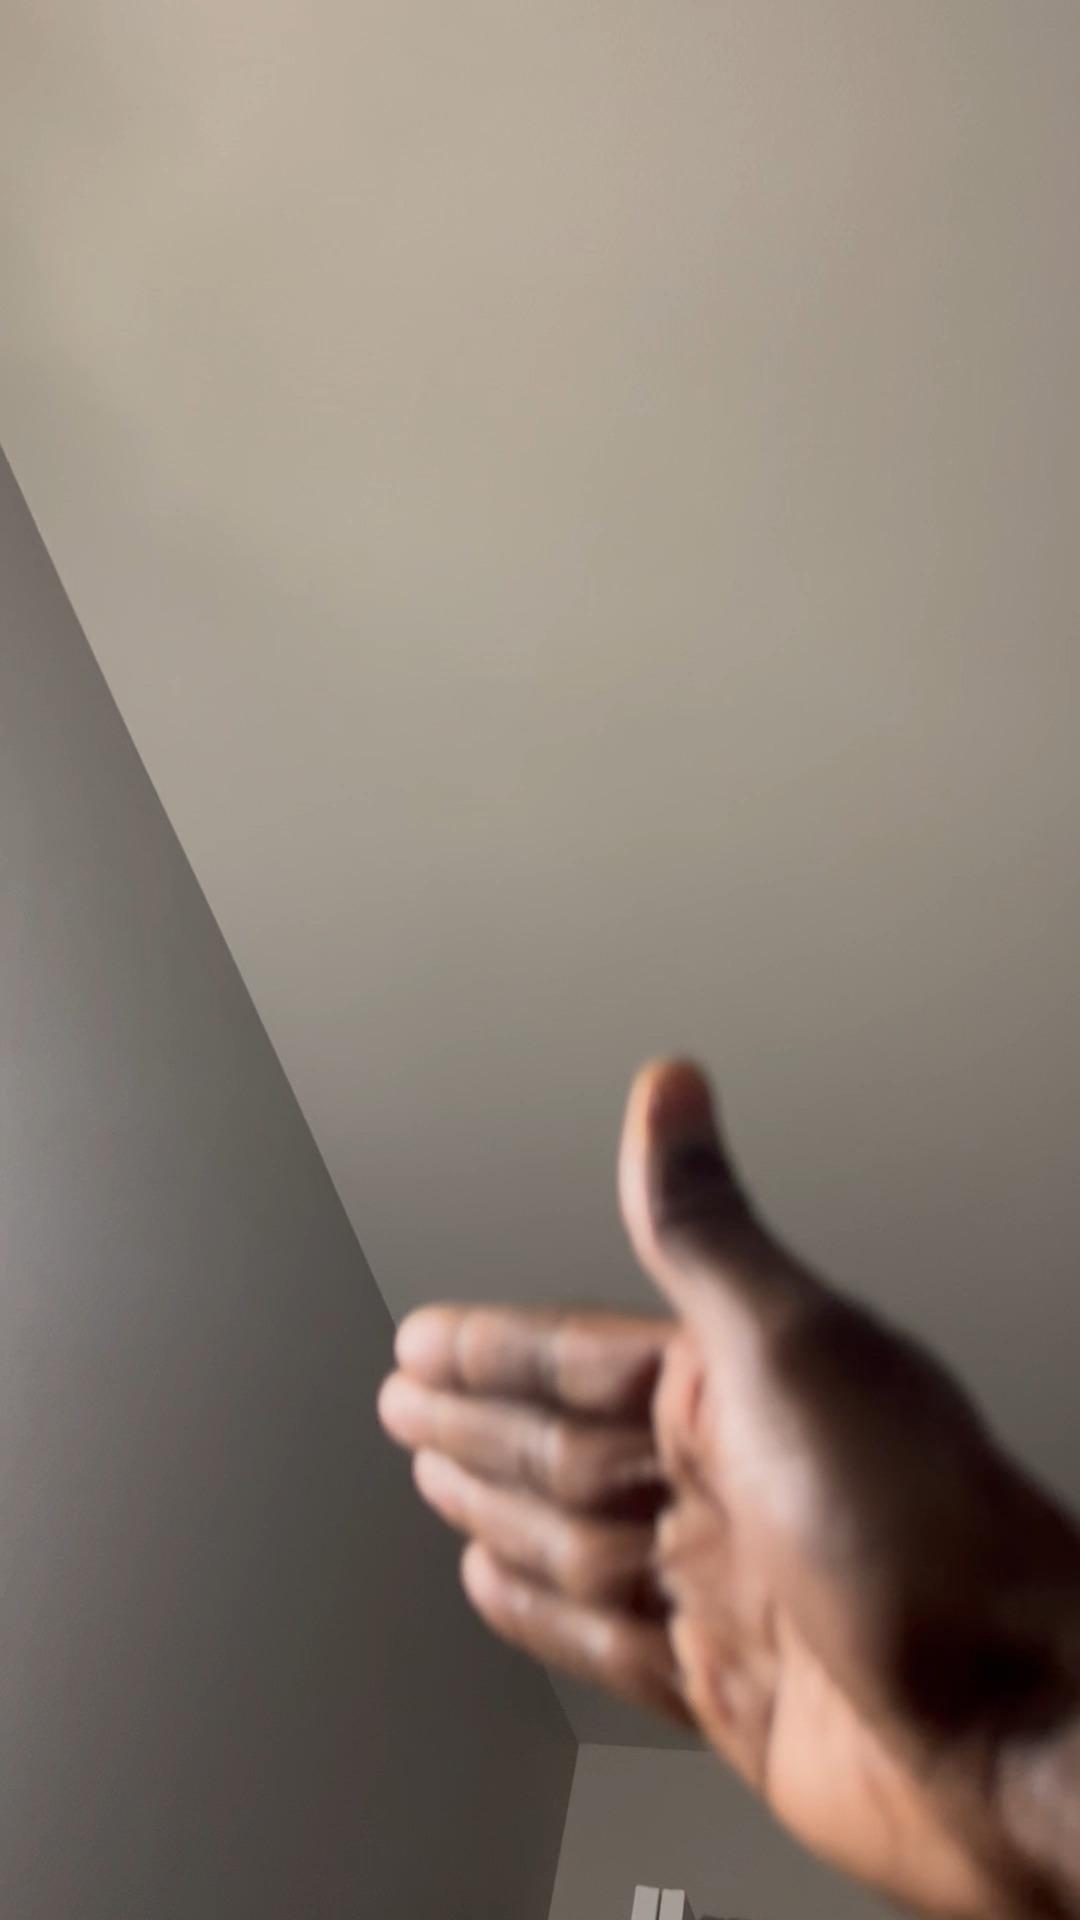Paper: (371, 1050, 1044, 1920)
